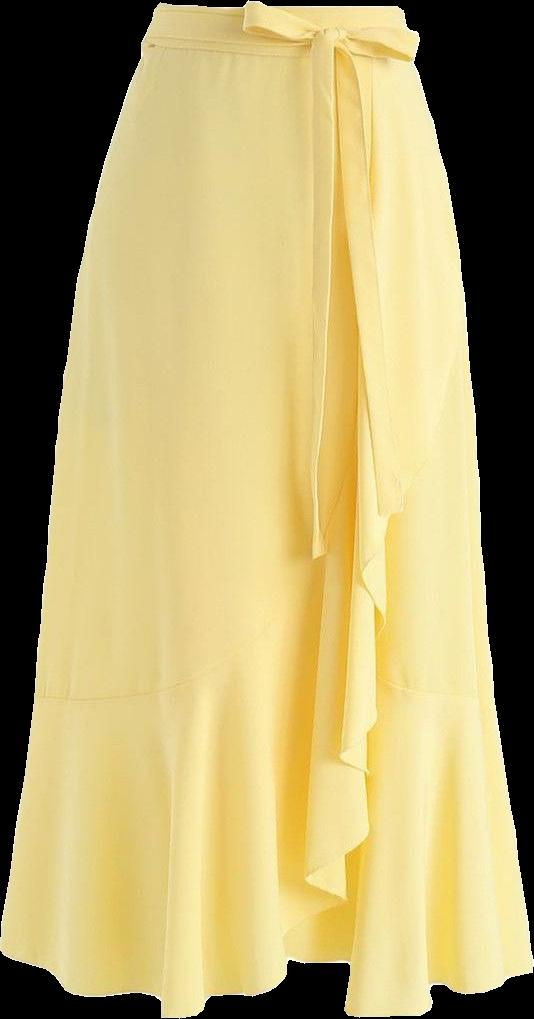Hemline: (0, 332, 471, 1018), (281, 949, 533, 1018)
Waistline: (135, 38, 415, 66), (149, 0, 401, 16)
